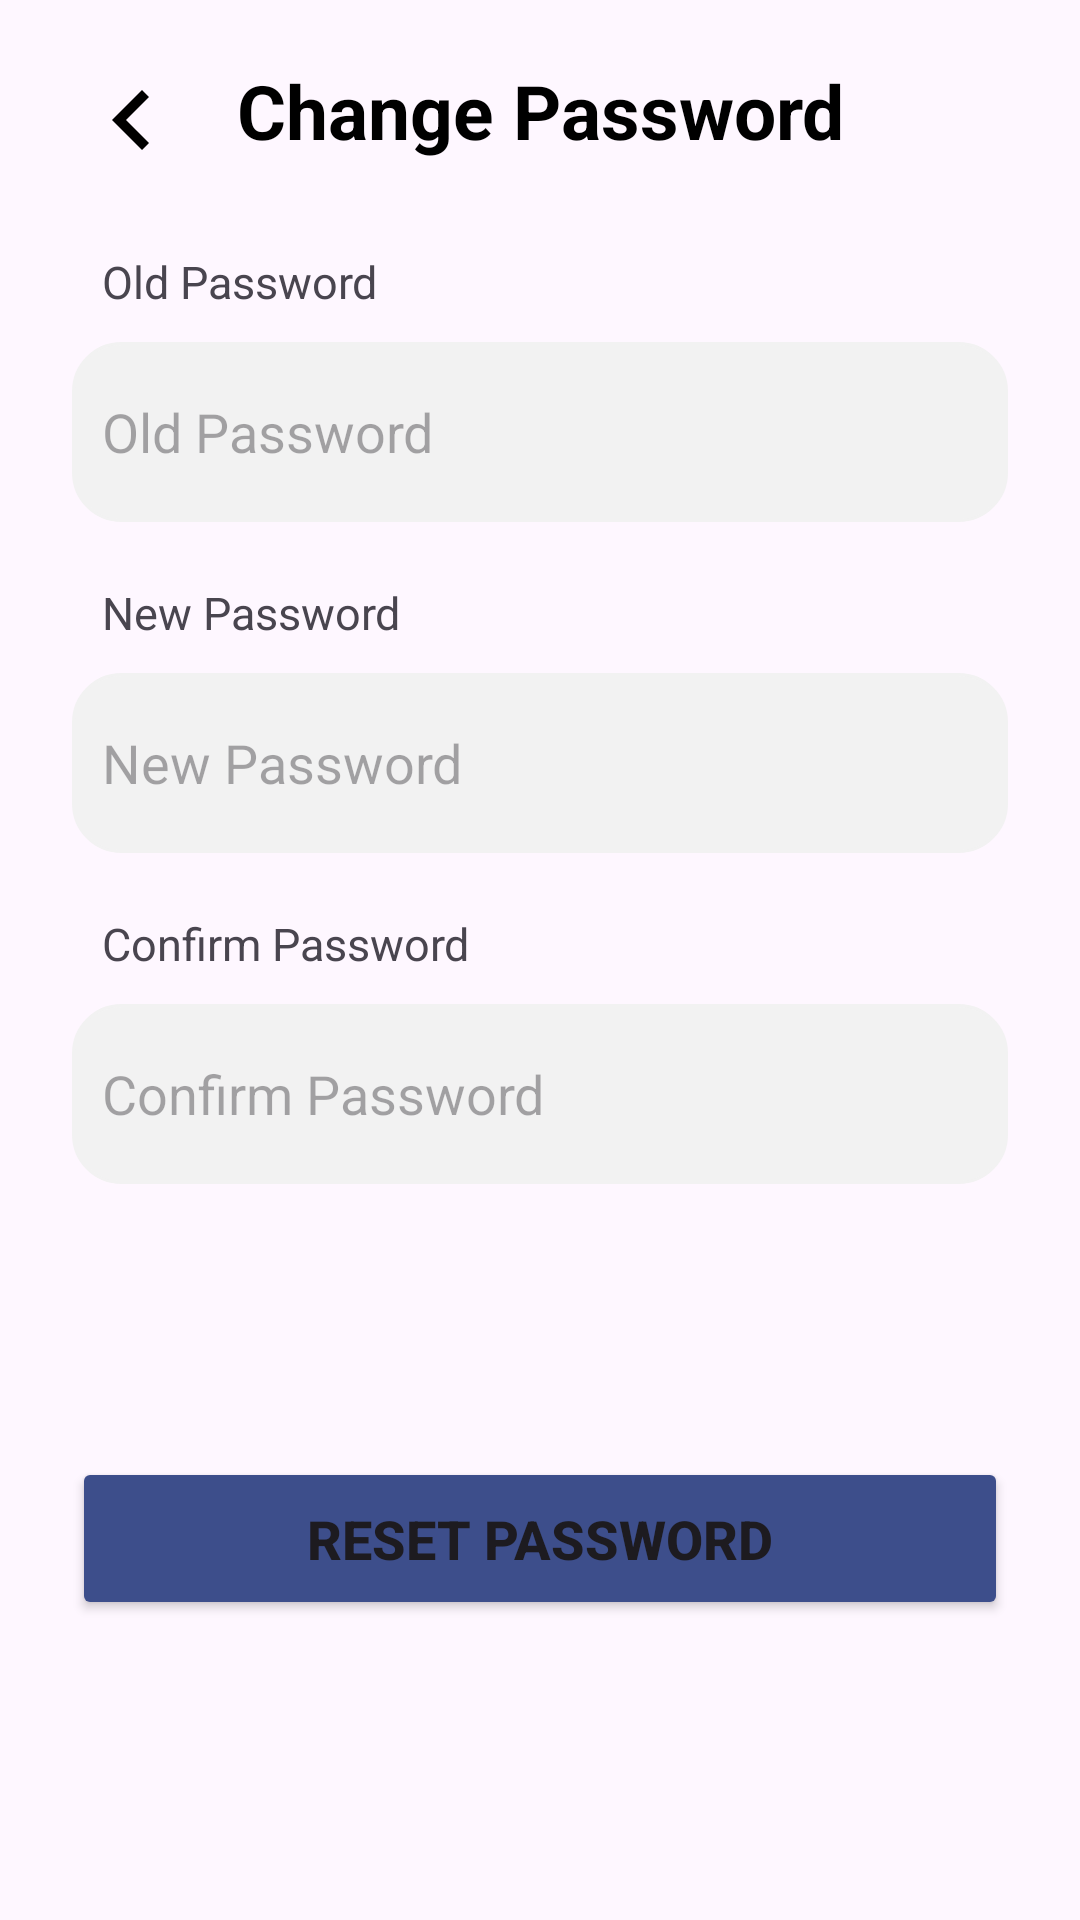

Screen size 1080x1920. Icon name, then its center in pixels as (x,y):
arrow left: (130,120)
